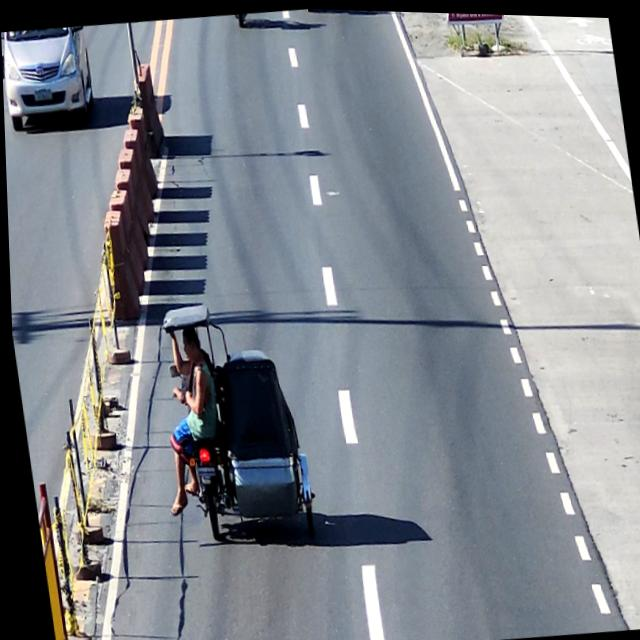Car: (1, 23, 96, 134)
License-Plate: (30, 83, 53, 105), (192, 461, 214, 483)
Tricycle: (157, 299, 317, 553)
